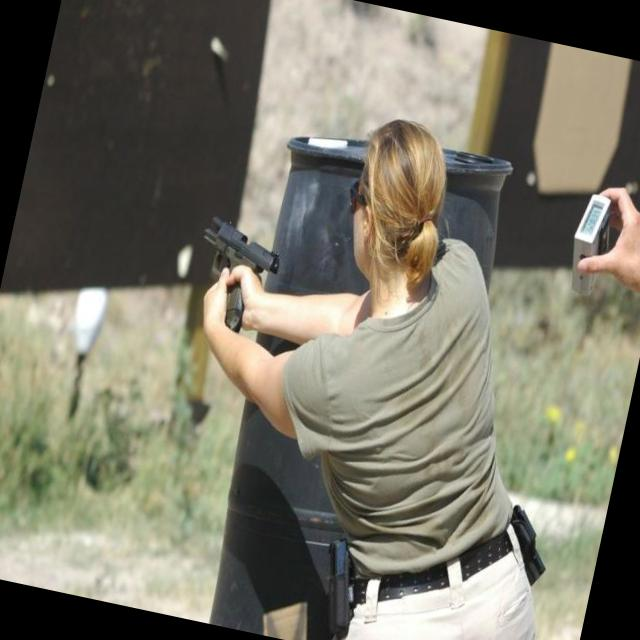Gun: (203, 216, 278, 273), (224, 284, 243, 331)
